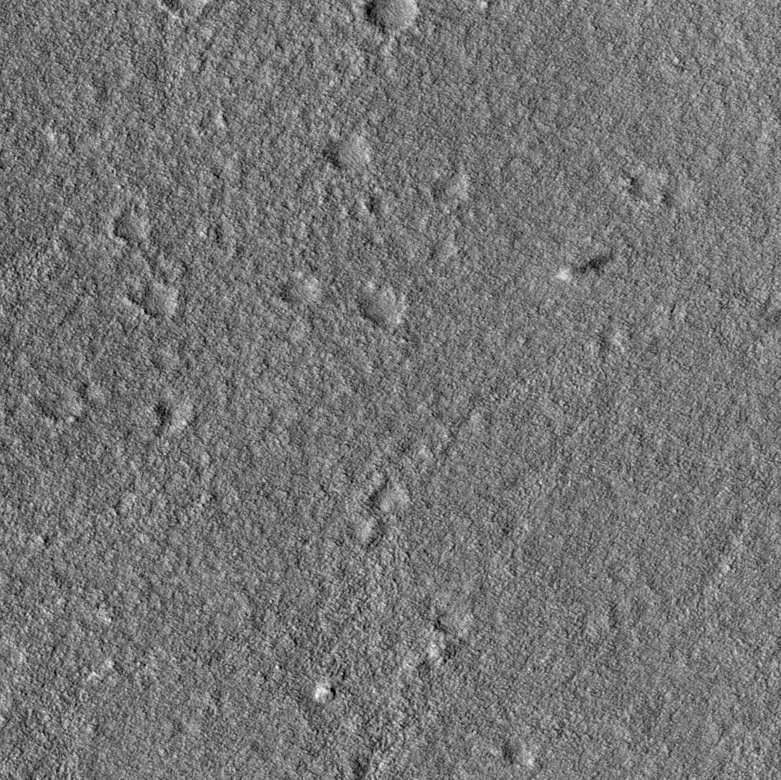dust_devil: (552, 251, 615, 285)
